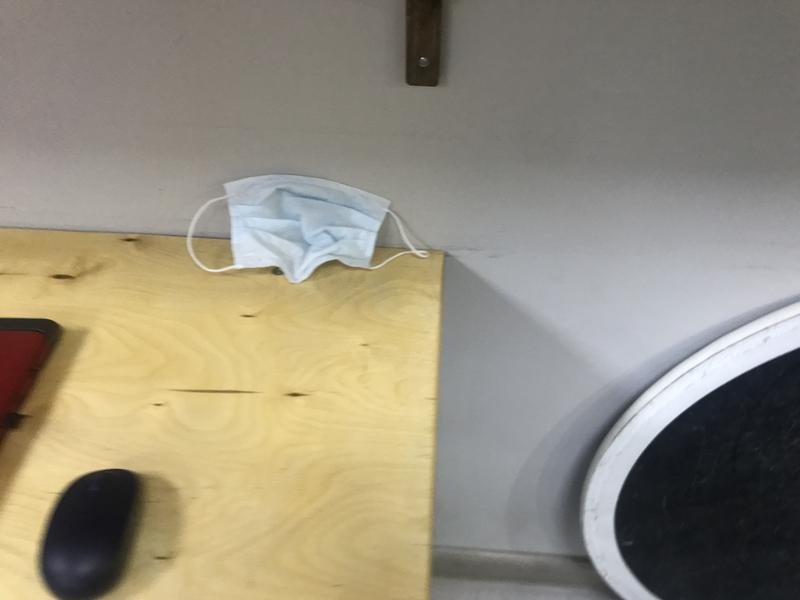medical_mask: (187, 176, 428, 282)
